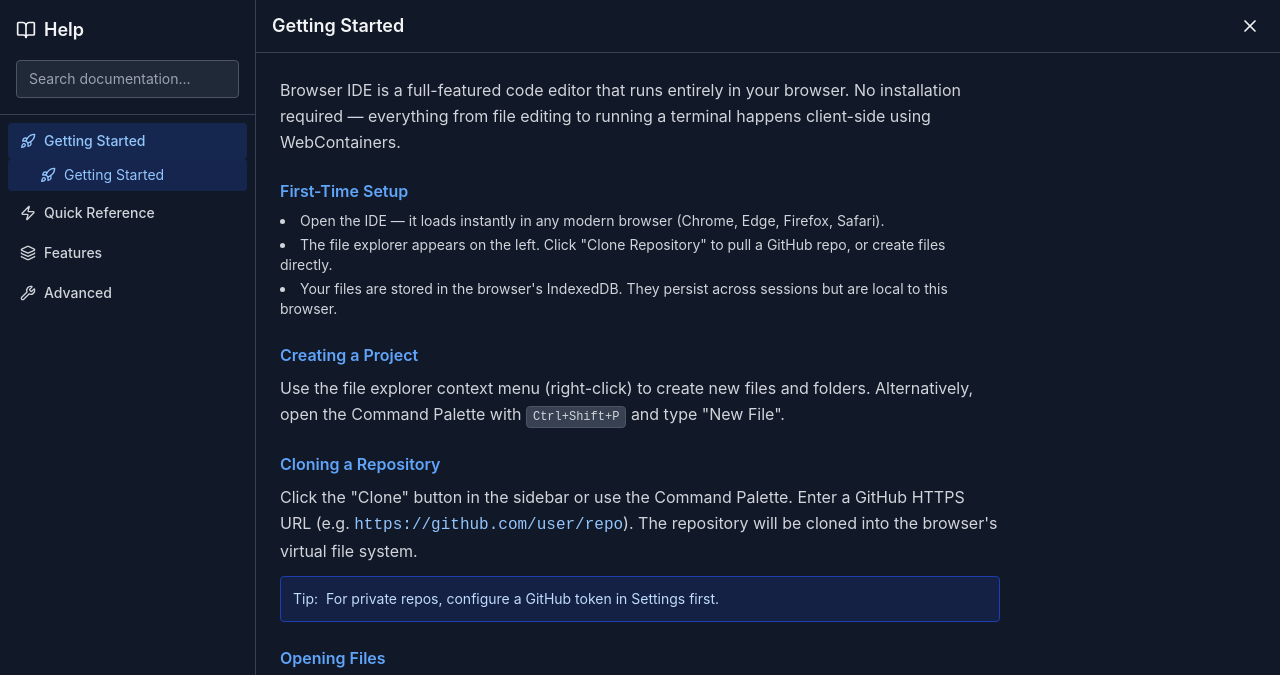
Test: HelpPanel - Navigation › switches to Terminal section
The image size is (1280, 675).
Click the button "Features". click: {"x": 128, "y": 253}
box: top-left (8, 235), bottom-right (247, 271)
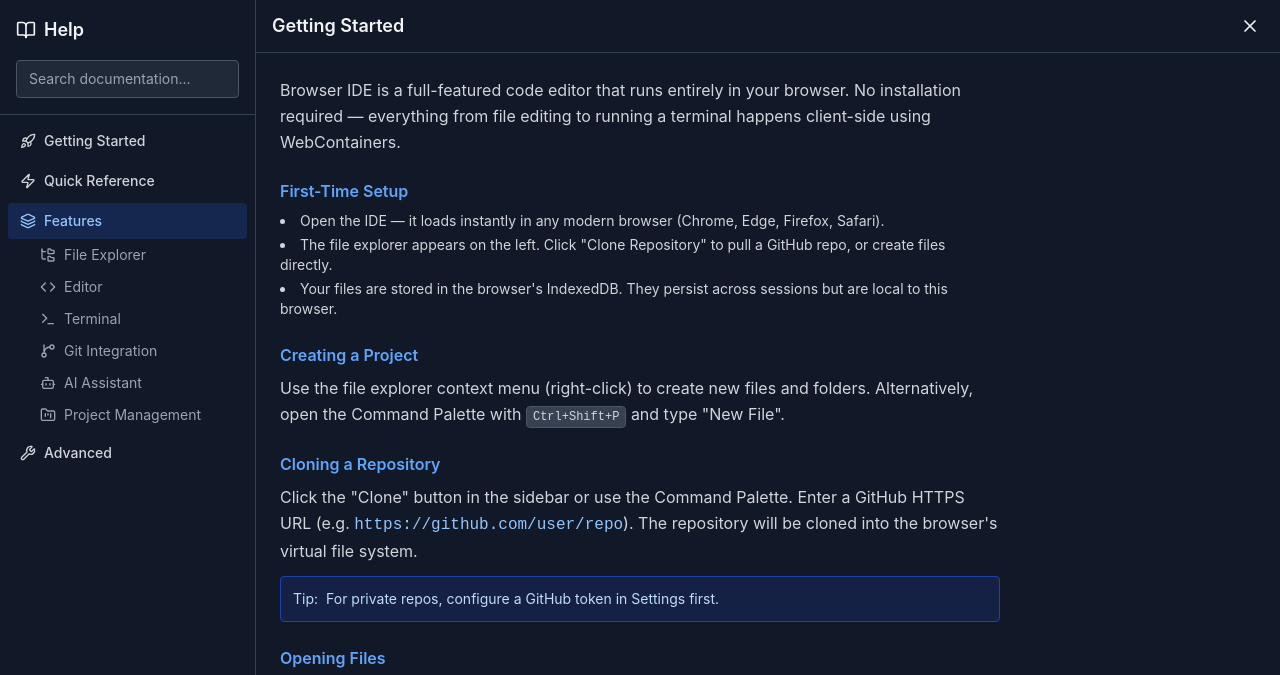
Click the button "Terminal". click: {"x": 128, "y": 319}
box: top-left (8, 303), bottom-right (247, 335)
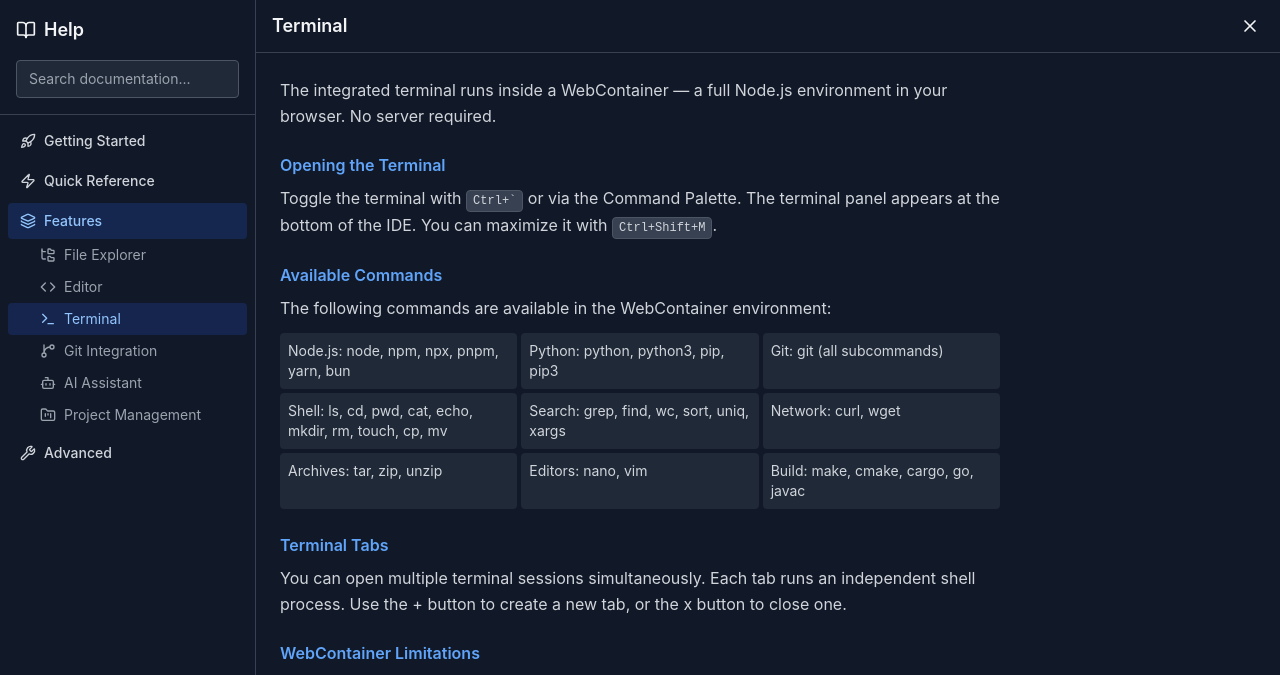
Check: the heading "Available Commands" is shown, box top-left (280, 265), bottom-right (442, 285)
